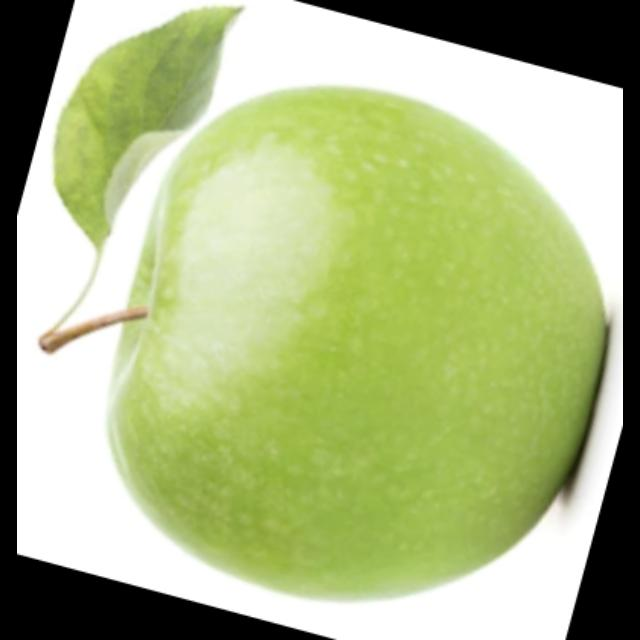Apel Segar: (38, 82, 608, 607)
